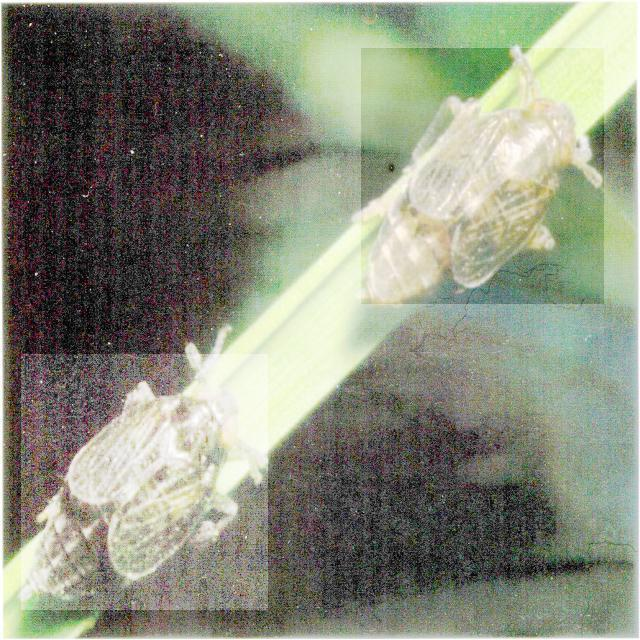rice-bug: (21, 354, 268, 610), (361, 48, 604, 304)
